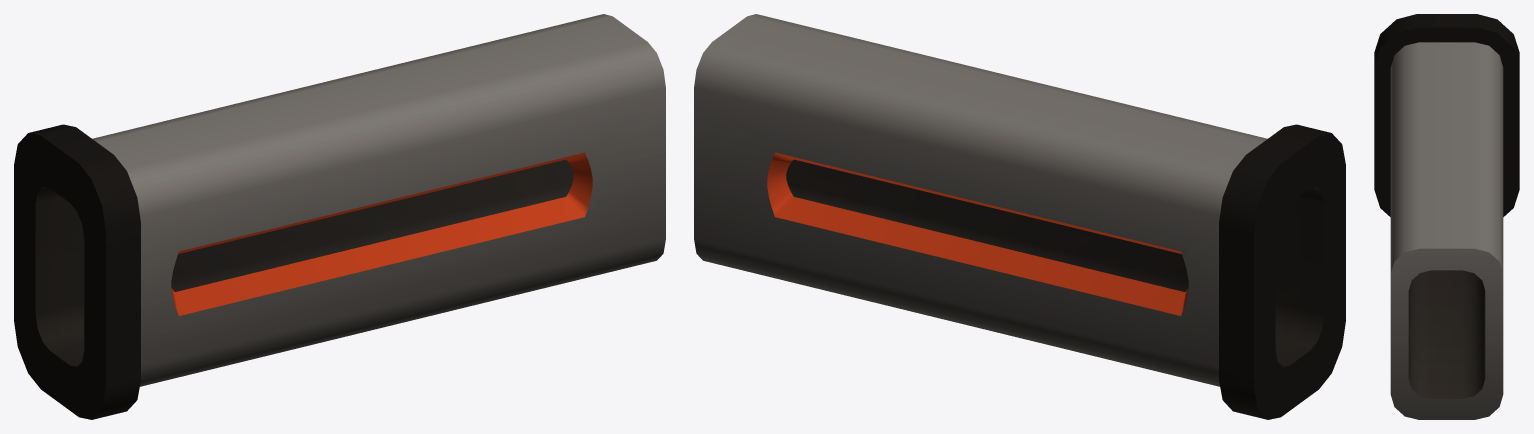
The model's file is Muzzle_Caliber3_06.fbx.
The picture shows the model from 3 angles, left to right: view 1: azimuth 30°, elevation 25°; view 2: azimuth 150°, elevation 25°; view 3: azimuth 270°, elevation 25°; orthographic projection. The views are drawn at different scales.
Visible parts, largest first — view 1: Muzzle_Caliber3_06; view 2: Muzzle_Caliber3_06; view 3: Muzzle_Caliber3_06.
Boxes of the visible parts, bbox=[...] form: Muzzle_Caliber3_06: bbox=[14, 14, 665, 419]; Muzzle_Caliber3_06: bbox=[694, 14, 1345, 419]; Muzzle_Caliber3_06: bbox=[1374, 14, 1519, 419].
Size of the model in its own units: 27.29 by 11.61 by 7.62.
